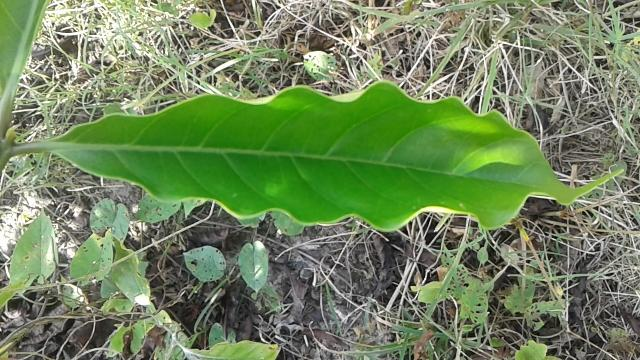healthy: (53, 81, 614, 232)
